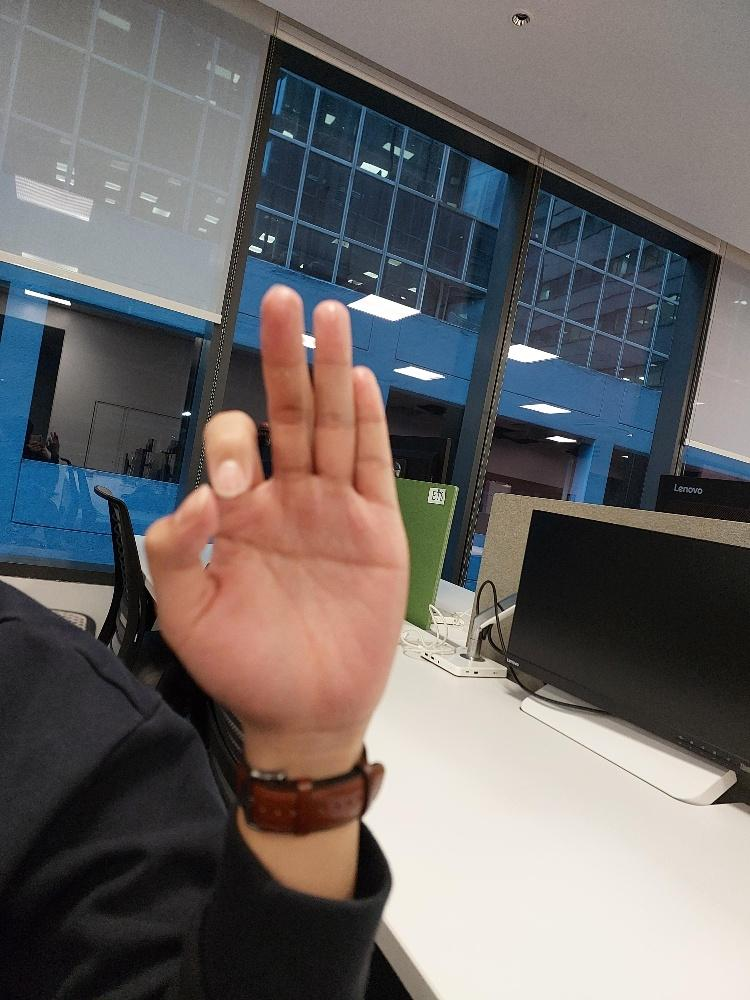f: (145, 282, 409, 712)
